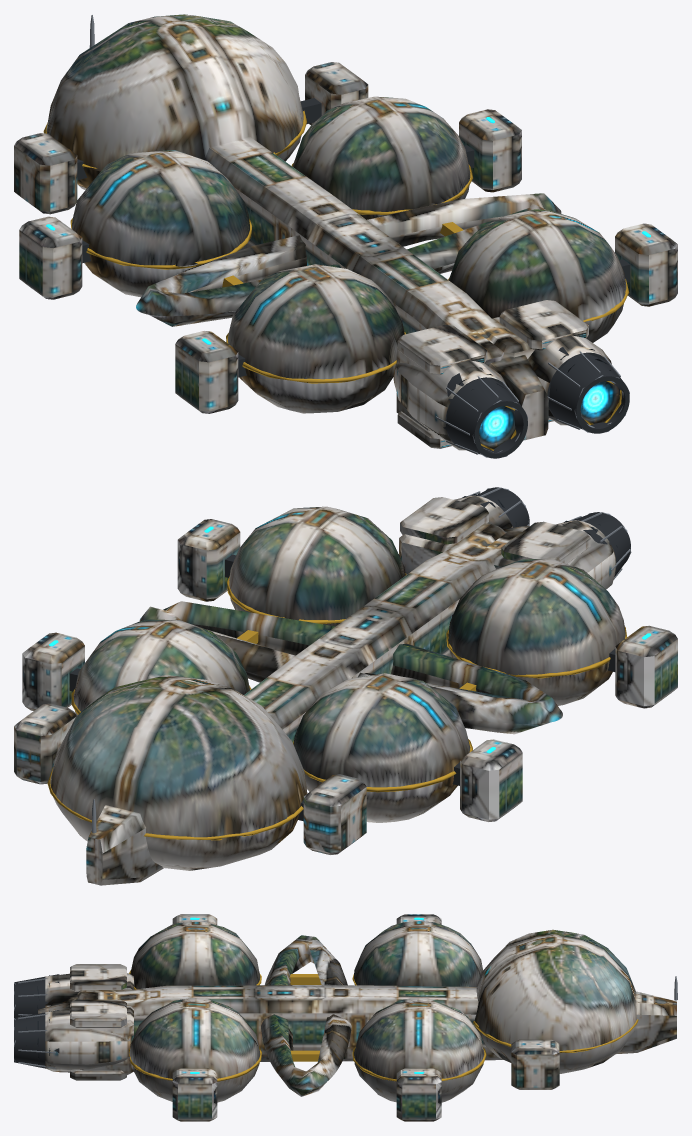
The model's file is colony-ship-lod2.glb.
3 views of the same model, one above another, from view 1: azimuth 30°, elevation 25°; view 2: azimuth 150°, elevation 25°; view 3: azimuth 270°, elevation 25° (orthographic). The views are drawn at different scales.
Visible parts, largest first — view 1: Static / Reference artwork | titanium, brass, panels and can, Static / Ventral armor | dedicated bottom-view reference, Static / Structural frames | gunmetal, Static / Warm brass collars, Static / Machined titanium edges; view 2: Static / Reference artwork | titanium, brass, panels and can, Static / Ventral armor | dedicated bottom-view reference, Static / Structural frames | gunmetal, Static / Warm brass collars, Static / Machined titanium edges; view 3: Static / Reference artwork | titanium, brass, panels and can, Static / Ventral armor | dedicated bottom-view reference, Static / Structural frames | gunmetal, Static / Warm brass collars, Static / Machined titanium edges.
Boxes of the visible parts, box(x1,y1,x2,y2) form: Static / Reference artwork | titanium, brass, panels and can: box(14, 14, 677, 449); Static / Ventral armor | dedicated bottom-view reference: box(17, 124, 674, 450); Static / Structural frames | gunmetal: box(77, 98, 630, 458); Static / Warm brass collars: box(43, 110, 629, 450); Static / Machined titanium edges: box(89, 15, 629, 457); Static / Reference artwork | titanium, brass, panels and can: box(14, 495, 677, 885); Static / Ventral armor | dedicated bottom-view reference: box(17, 548, 674, 885); Static / Structural frames | gunmetal: box(60, 487, 630, 821); Static / Warm brass collars: box(47, 573, 626, 840); Static / Machined titanium edges: box(91, 487, 631, 833); Static / Reference artwork | titanium, brass, panels and can: box(38, 914, 676, 1119); Static / Ventral armor | dedicated bottom-view reference: box(45, 953, 676, 1121); Static / Structural frames | gunmetal: box(14, 974, 59, 1068); Static / Warm brass collars: box(129, 970, 638, 1081); Static / Machined titanium edges: box(14, 976, 677, 1068).
Bounding box in the file's own units: 11.53 × 3.88 × 19.25.
7 materials, 2 textured.
